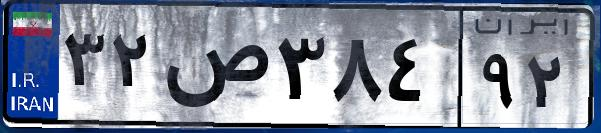2: (525, 38, 570, 115), (110, 28, 158, 98)
3: (270, 28, 330, 110), (57, 26, 110, 100)
4: (385, 28, 445, 110)
8: (330, 28, 385, 110)
9: (475, 38, 525, 113)
ص: (158, 20, 270, 120)
